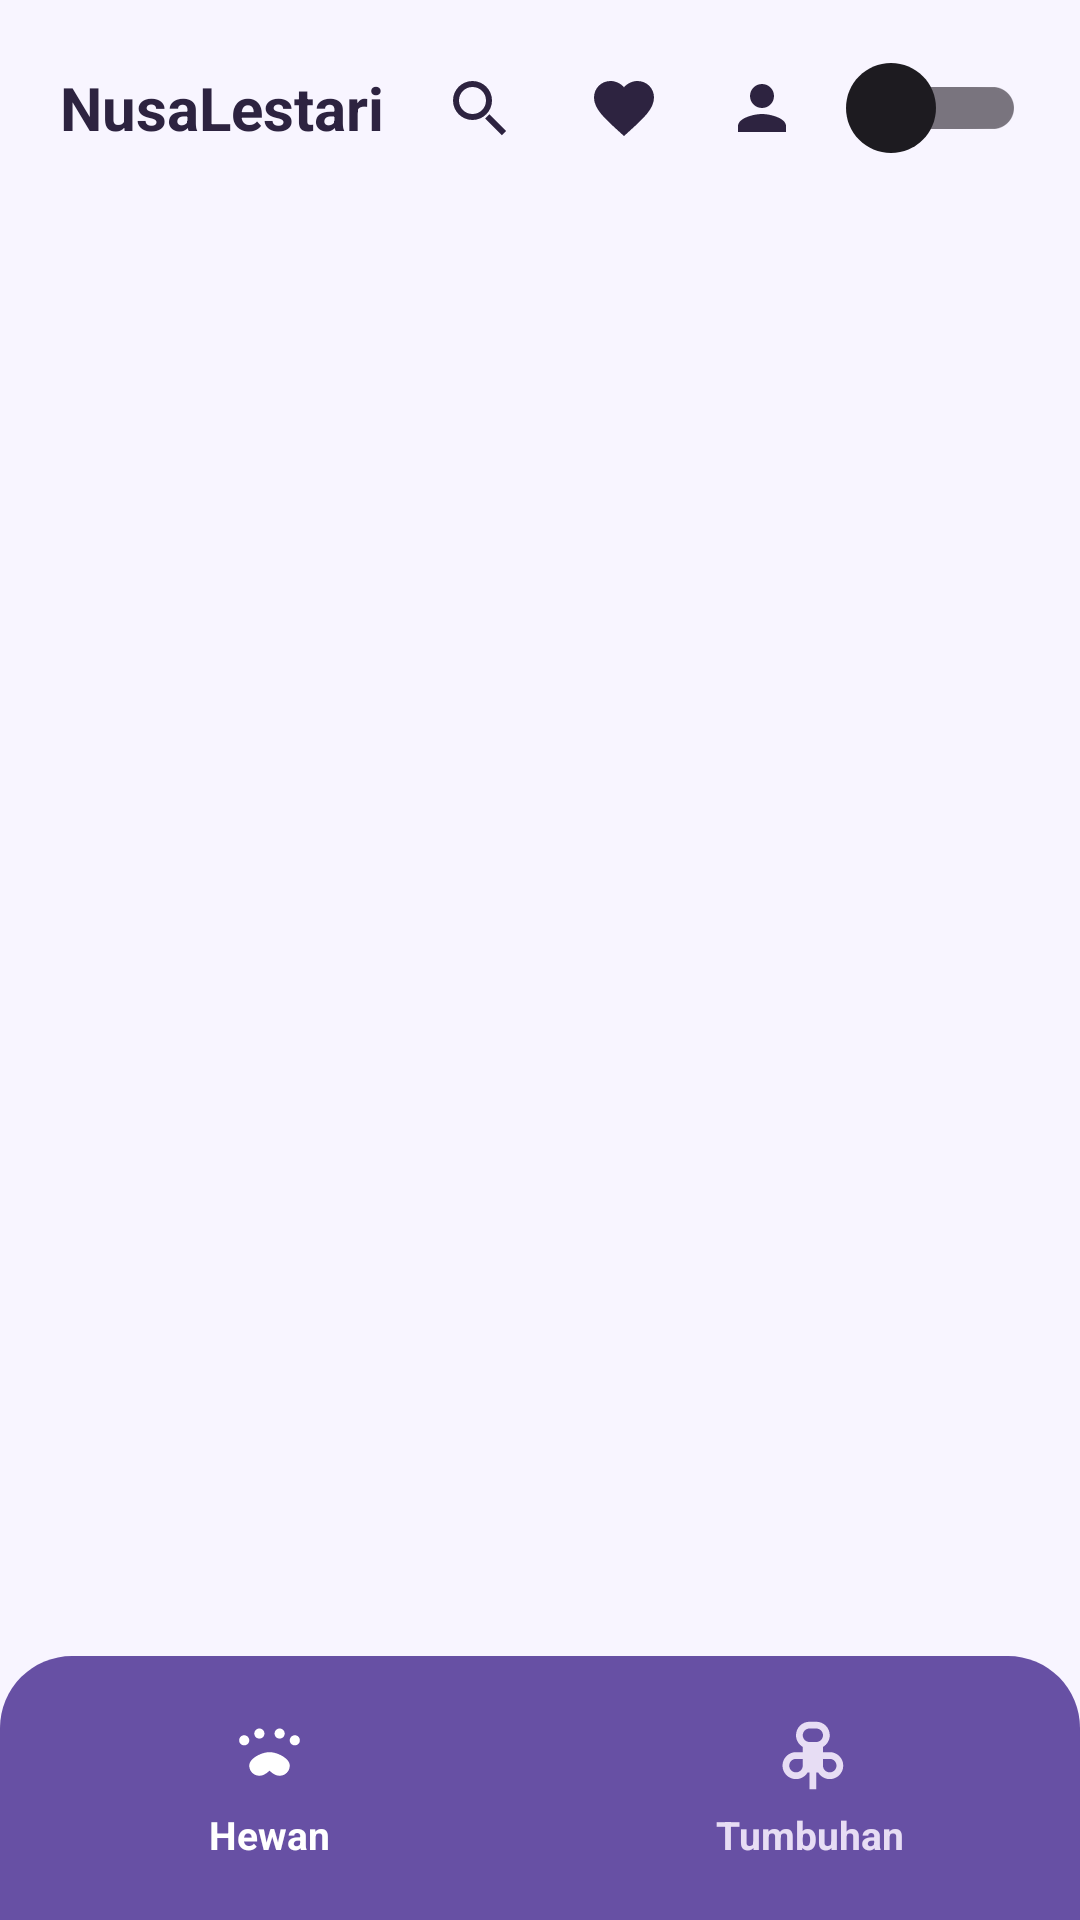

Point at icon controls on the screen. Image size 1080px x 1920px, points as point (x, y).
Favorit: point (624, 108)
Pencarian: point (479, 108)
Profil Pengembang: point (762, 108)
